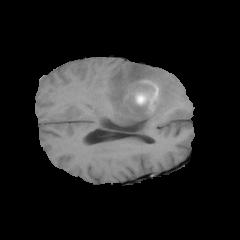glioma: (63, 65, 183, 126)
